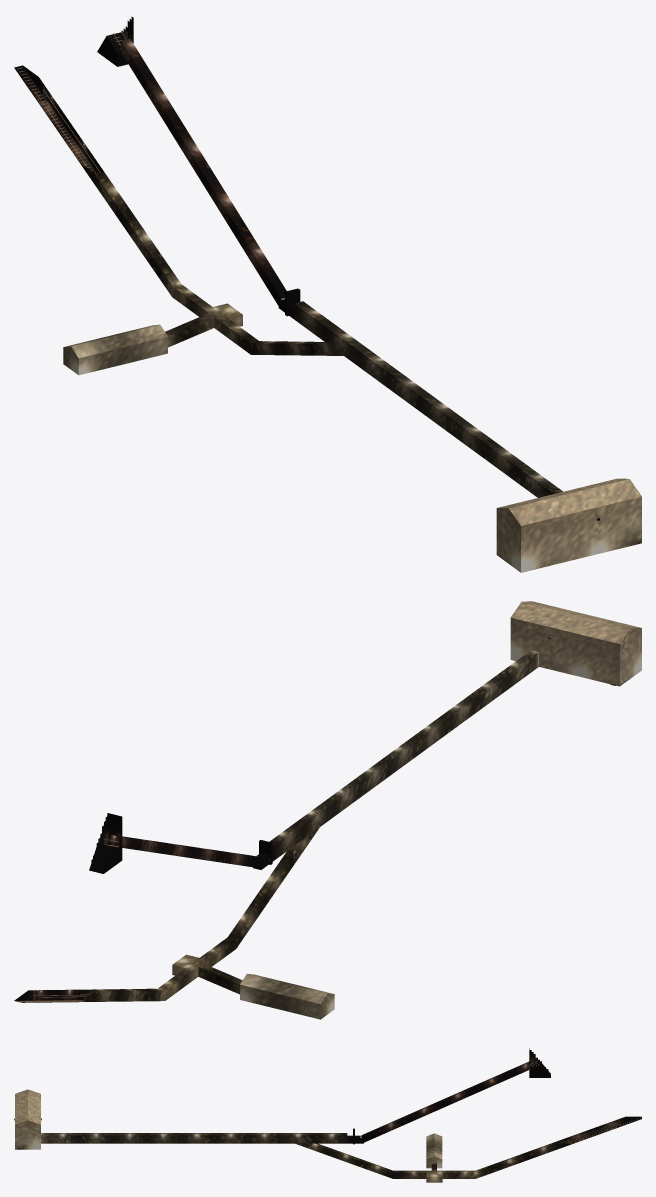
File: khafre.glb
3 views of the same model, one above another, from view 1: azimuth 30°, elevation 25°; view 2: azimuth 150°, elevation 25°; view 3: azimuth 270°, elevation 25° (orthographic). The views are drawn at different scales.
Parts seen in each view (by area): view 1: khafre; view 2: khafre, solids; view 3: khafre, solids.
Part boxes in pixels (<box>): khafre: <box>14,16,641,572</box>; khafre: <box>14,601,641,1019</box>; solids: <box>89,843,122,873</box>; khafre: <box>14,1048,641,1182</box>; solids: <box>23,1062,550,1148</box>.
Size of the model in its own units: 20.18 by 28.19 by 121.
